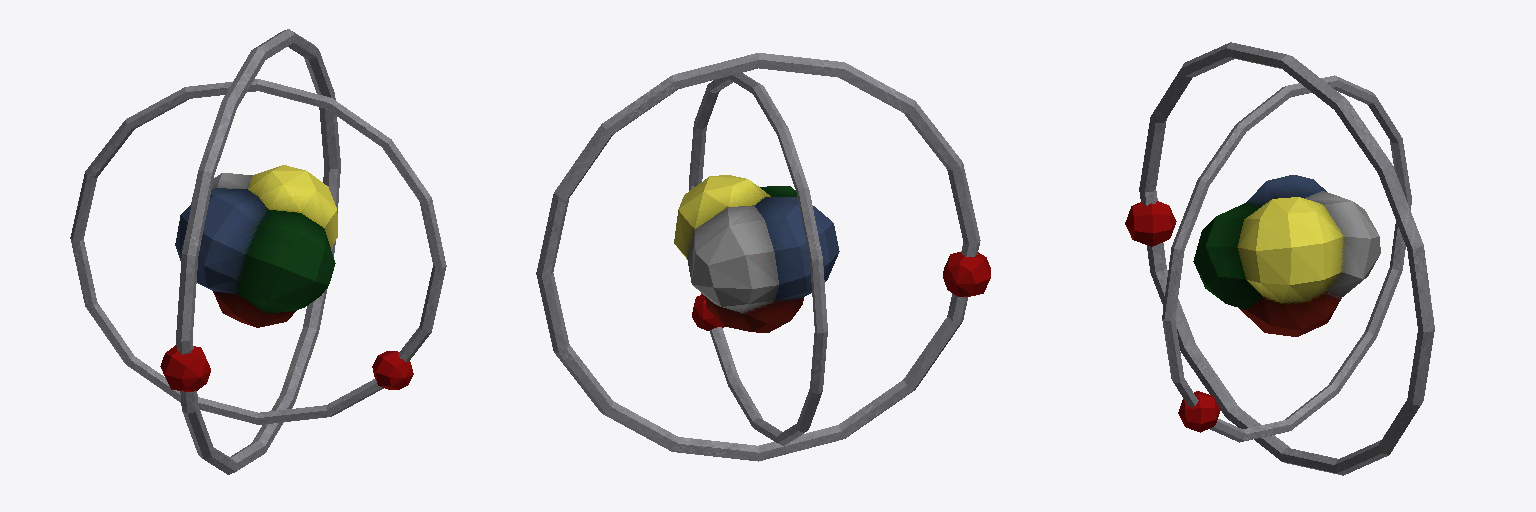
3 views of the same model, side by side, from view 1: azimuth 30°, elevation 25°; view 2: azimuth 150°, elevation 25°; view 3: azimuth 270°, elevation 25° (orthographic).
Visible parts, largest first — view 1: unwrapped2, Object09, Object10, Object12, Object11; view 2: Object09, unwrapped2, Object10, Object12, Object11; view 3: unwrapped2, Object09, Object10, Object12, Object11.
Part boxes in pixels (bbox=[...]): unwrapped2: bbox=[175, 165, 337, 327]; Object09: bbox=[176, 29, 340, 474]; Object10: bbox=[70, 79, 446, 424]; Object12: bbox=[160, 345, 210, 391]; Object11: bbox=[372, 351, 413, 389]; Object09: bbox=[536, 53, 980, 461]; unwrapped2: bbox=[674, 175, 839, 332]; Object10: bbox=[689, 73, 827, 445]; Object12: bbox=[943, 252, 990, 296]; Object11: bbox=[692, 294, 724, 330]; unwrapped2: bbox=[1193, 175, 1380, 336]; Object09: bbox=[1139, 42, 1434, 475]; Object10: bbox=[1162, 75, 1411, 442]; Object12: bbox=[1125, 201, 1176, 246]; Object11: bbox=[1178, 391, 1220, 432].
Size of the model in its own units: 28.37 by 35.32 by 24.26.
Materials: 1 (1 with a texture image).